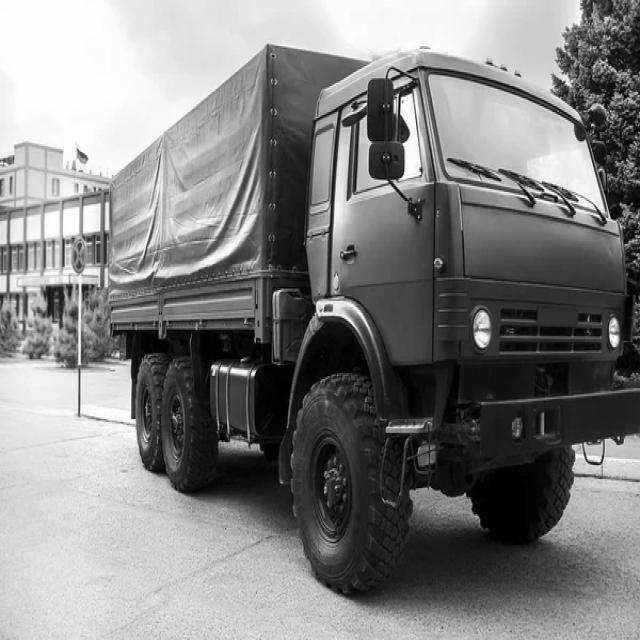Truck: (110, 46, 640, 593)
